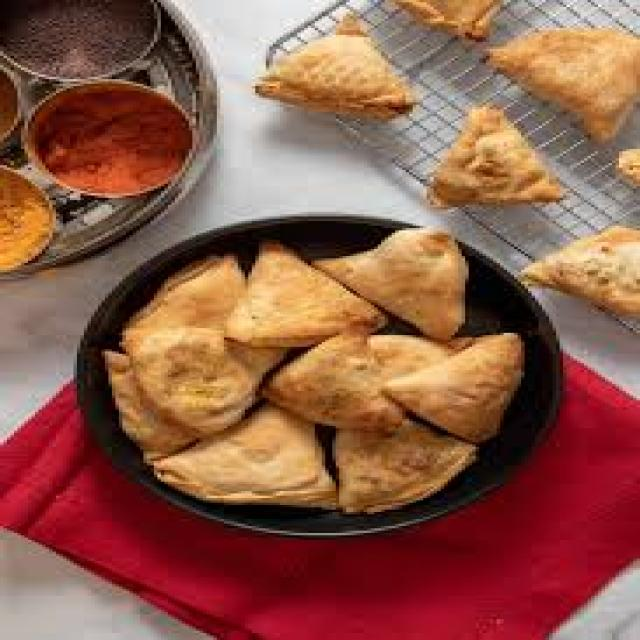SAMOSA: (246, 8, 413, 119), (223, 239, 389, 348), (154, 408, 338, 506), (313, 225, 467, 342), (498, 27, 637, 150), (128, 330, 287, 436), (384, 333, 525, 448), (262, 324, 406, 428), (431, 104, 570, 205), (519, 222, 637, 324), (336, 429, 474, 512), (128, 252, 248, 329)
